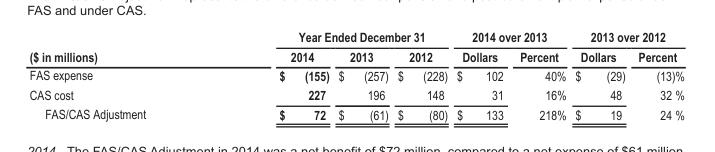table: (28, 29, 683, 121)
table column: (28, 29, 211, 121), (211, 29, 333, 121), (570, 29, 631, 121), (510, 29, 570, 121), (333, 29, 392, 121), (392, 29, 451, 121), (451, 29, 510, 121), (631, 29, 683, 121)
table column header: (28, 29, 683, 65)
table row: (28, 46, 683, 65), (28, 65, 683, 84), (28, 84, 683, 103), (28, 103, 683, 121), (28, 29, 683, 46)
table spanning cell: (28, 29, 211, 65), (211, 29, 451, 46), (451, 29, 570, 46), (570, 29, 683, 46)
